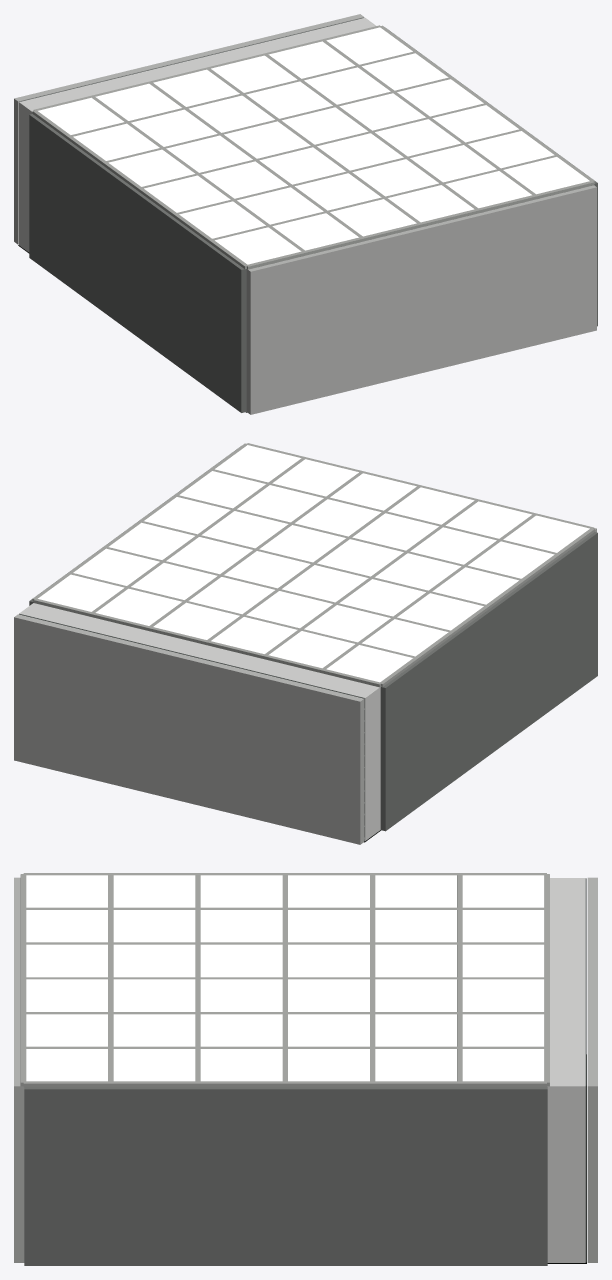
File: room.glb
3 renders of one model, top to bottom at view 1: azimuth 30°, elevation 25°; view 2: azimuth 150°, elevation 25°; view 3: azimuth 270°, elevation 25°, orthographic. The views are drawn at different scales.
Visible parts, largest first — view 1: Pared_entrada, Soporte_pared, Marco_superior, Pared_trasera, Perfil_techo_Y6, PANEL_LUZ_04_05, PANEL_LUZ_01_02, PANEL_LUZ_01_04, PANEL_LUZ_02_05, PANEL_LUZ_03_02, PANEL_LUZ_06_05, PANEL_LUZ_02_02 (+43 smaller); view 2: Pared_trasera, Soporte_pared, Marco_superior, Marco_lateral, Perfil_techo_Y0, PANEL_LUZ_04_02, PANEL_LUZ_02_02, PANEL_LUZ_03_02, PANEL_LUZ_03_05, PANEL_LUZ_04_05, PANEL_LUZ_01_02, PANEL_LUZ_01_05 (+42 smaller); view 3: Soporte_pared.001, Marco_superior, Marco_lateral.001, Pared_trasera, Perfil_techo_X6, Pared_entrada, PANEL_LUZ_04_03, PANEL_LUZ_01_03, PANEL_LUZ_05_03, PANEL_LUZ_02_03, PANEL_LUZ_03_03, PANEL_LUZ_06_03 (+44 smaller).
Part boxes in pixels (left/top/right/bottom): Pared_entrada: left=246, top=185, right=596, bottom=414; Soporte_pared: left=29, top=114, right=246, bottom=412; Marco_superior: left=20, top=18, right=375, bottom=110; Pared_trasera: left=14, top=14, right=364, bottom=244; Perfil_techo_Y6: left=246, top=181, right=594, bottom=269; PANEL_LUZ_04_05: left=375, top=119, right=461, bottom=156; PANEL_LUZ_01_02: left=95, top=83, right=181, bottom=120; PANEL_LUZ_01_04: left=211, top=55, right=297, bottom=92; PANEL_LUZ_02_05: left=304, top=67, right=390, bottom=104; PANEL_LUZ_03_02: left=166, top=135, right=252, bottom=172; PANEL_LUZ_06_05: left=445, top=171, right=531, bottom=208; PANEL_LUZ_02_02: left=131, top=109, right=217, bottom=146; Pared_trasera: left=14, top=614, right=364, bottom=844; Soporte_pared: left=380, top=532, right=597, bottom=831; Marco_superior: left=20, top=603, right=378, bottom=697; Marco_lateral: left=364, top=687, right=380, bottom=840; Perfil_techo_Y0: left=33, top=599, right=380, bottom=687; PANEL_LUZ_04_02: left=375, top=553, right=461, bottom=590; PANEL_LUZ_02_02: left=304, top=605, right=390, bottom=642; PANEL_LUZ_03_02: left=339, top=579, right=425, bottom=616; PANEL_LUZ_03_05: left=166, top=537, right=252, bottom=574; PANEL_LUZ_04_05: left=201, top=511, right=288, bottom=548; PANEL_LUZ_01_02: left=268, top=631, right=354, bottom=668; PANEL_LUZ_01_05: left=95, top=588, right=181, bottom=625; Soporte_pared.001: left=24, top=1086, right=547, bottom=1265; Marco_superior: left=550, top=878, right=585, bottom=1085; Marco_lateral.001: left=547, top=1085, right=585, bottom=1262; Pared_trasera: left=587, top=877, right=597, bottom=1262; Perfil_techo_X6: left=23, top=1081, right=546, bottom=1087; Pared_entrada: left=14, top=877, right=24, bottom=1262; PANEL_LUZ_04_03: left=200, top=944, right=282, bottom=977; PANEL_LUZ_01_03: left=462, top=944, right=544, bottom=977; PANEL_LUZ_05_03: left=113, top=944, right=195, bottom=977; PANEL_LUZ_02_03: left=375, top=944, right=456, bottom=977; PANEL_LUZ_03_03: left=288, top=944, right=369, bottom=977; PANEL_LUZ_06_03: left=26, top=944, right=107, bottom=977.
Bounding box in the file's own units: 6.98 × 2.75 × 8.03.
Materials: 11 (1 with a texture image).
